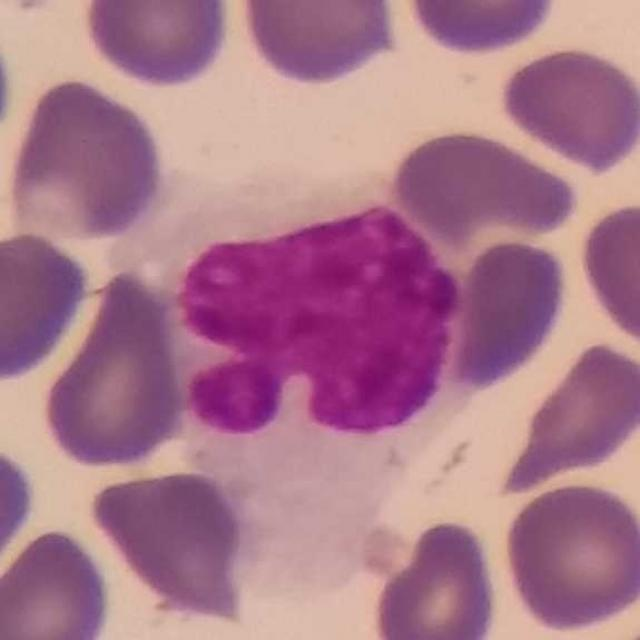Monocyte: (147, 174, 479, 600)
RBC: (36, 267, 189, 474), (1, 72, 170, 244), (87, 466, 254, 618), (491, 335, 640, 500), (385, 124, 583, 244), (500, 478, 640, 634), (445, 234, 573, 393), (495, 41, 640, 175), (366, 514, 503, 640), (0, 226, 95, 387), (235, 0, 405, 89), (78, 0, 236, 90), (0, 523, 116, 640), (575, 197, 640, 360), (398, 0, 564, 58), (0, 441, 39, 586)
